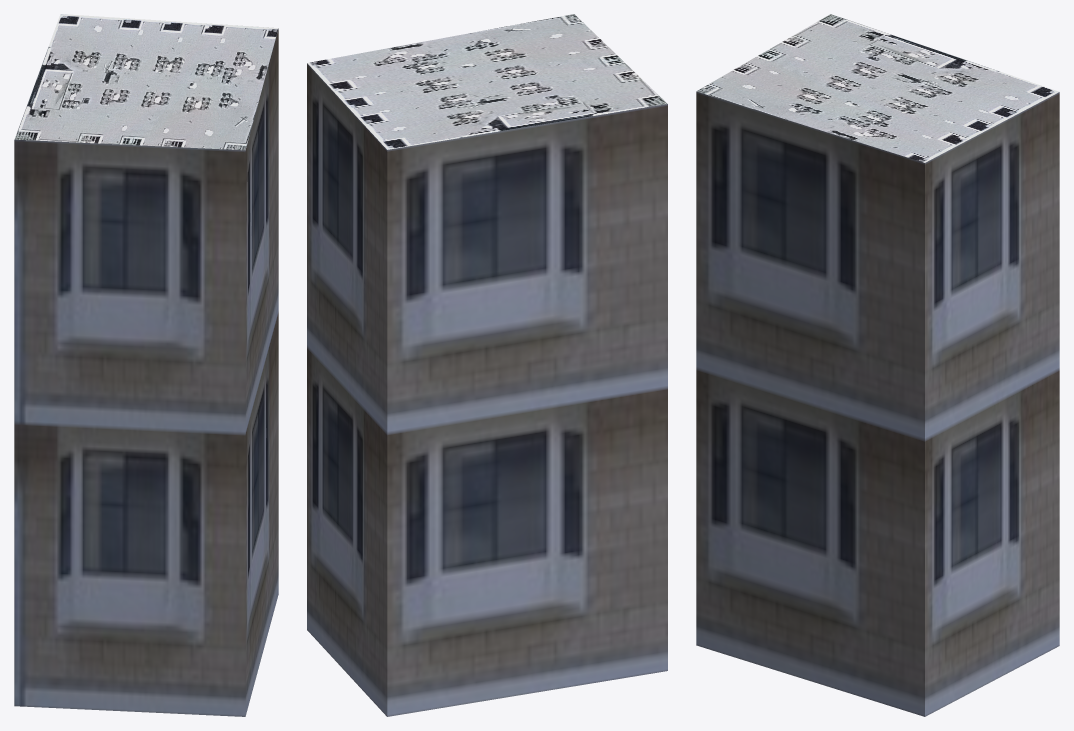
The model's file is ResTex__1178.fbx.
3 views of the same model, side by side, from view 1: azimuth 30°, elevation 25°; view 2: azimuth 150°, elevation 25°; view 3: azimuth 270°, elevation 25° (orthographic). The views are drawn at different scales.
Parts seen in each view (by area): view 1: CityEngineMaterial_3_m, CityEngineMaterial_4_m; view 2: CityEngineMaterial_3_m, CityEngineMaterial_4_m; view 3: CityEngineMaterial_3_m, CityEngineMaterial_4_m.
Boxes of the visible parts, x1,y1,x2,y2 form: CityEngineMaterial_3_m: (14, 28, 278, 716); CityEngineMaterial_4_m: (14, 14, 278, 150); CityEngineMaterial_3_m: (307, 63, 667, 716); CityEngineMaterial_4_m: (307, 14, 667, 149); CityEngineMaterial_3_m: (696, 91, 1059, 716); CityEngineMaterial_4_m: (696, 14, 1059, 162).
Bounding box in the file's own units: 3.46 × 6 × 3.57.
2 materials, 2 textured.
